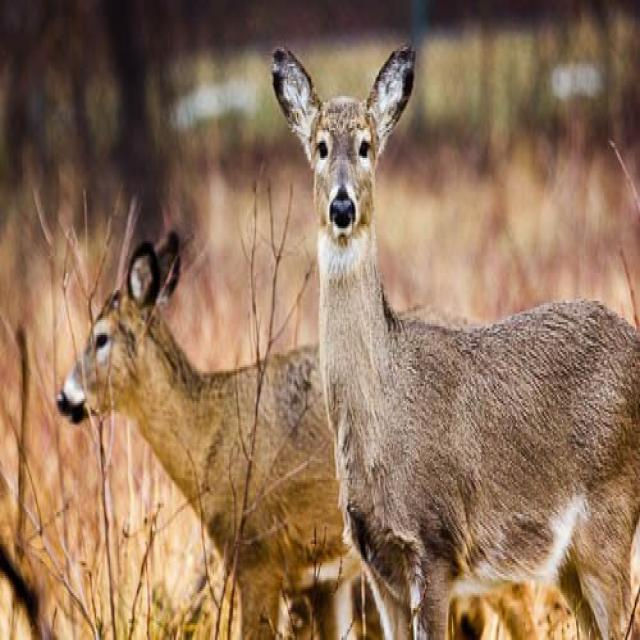Deer: (270, 36, 640, 640)
